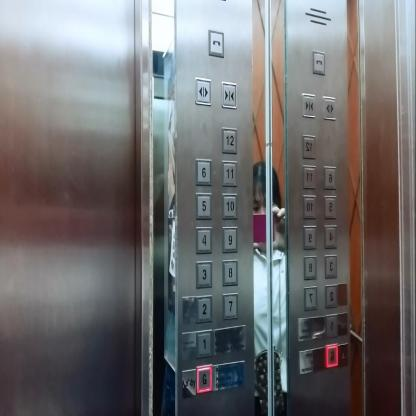1: (196, 328, 213, 360)
10: (221, 192, 238, 219)
11: (221, 158, 237, 188)
12: (222, 125, 237, 155)
2: (195, 294, 212, 324)
3: (195, 260, 212, 290)
4: (194, 225, 212, 254)
5: (195, 192, 212, 220)
6: (195, 156, 212, 186)
7: (221, 292, 239, 321)
8: (222, 258, 238, 286)
9: (221, 225, 238, 253)
G: (196, 363, 212, 394)
call: (208, 28, 224, 58), (312, 49, 326, 75)
close: (221, 79, 238, 111), (323, 96, 337, 121)
open: (194, 74, 211, 106), (302, 92, 316, 119)
unknown: (323, 223, 338, 249), (303, 285, 318, 311), (302, 163, 316, 190), (302, 133, 316, 159), (323, 194, 337, 220), (302, 224, 316, 250), (303, 254, 317, 280), (303, 194, 316, 220), (323, 165, 337, 189), (324, 254, 337, 278), (325, 282, 337, 308), (326, 342, 338, 368), (326, 313, 338, 337)
